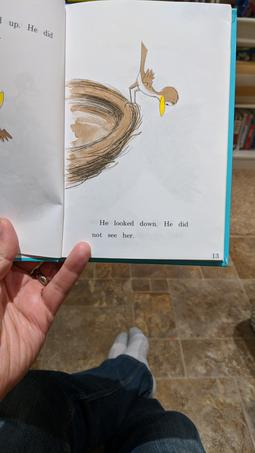text block: (84, 205, 207, 249), (1, 11, 60, 53)
